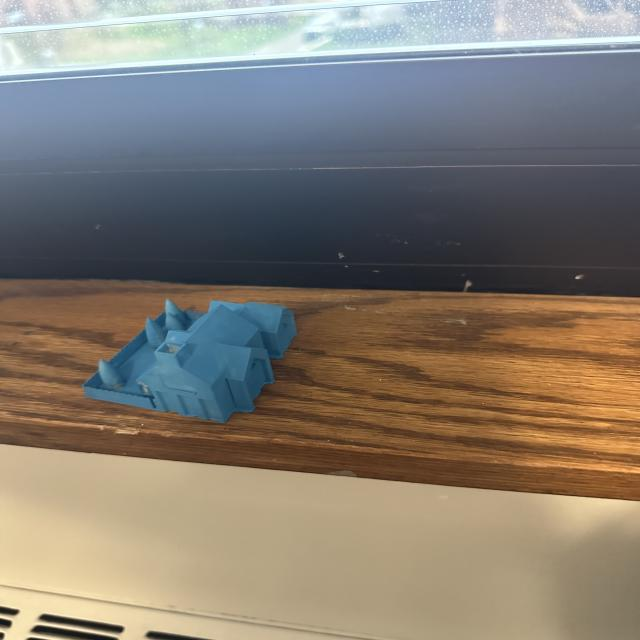house: (80, 295, 300, 425)
